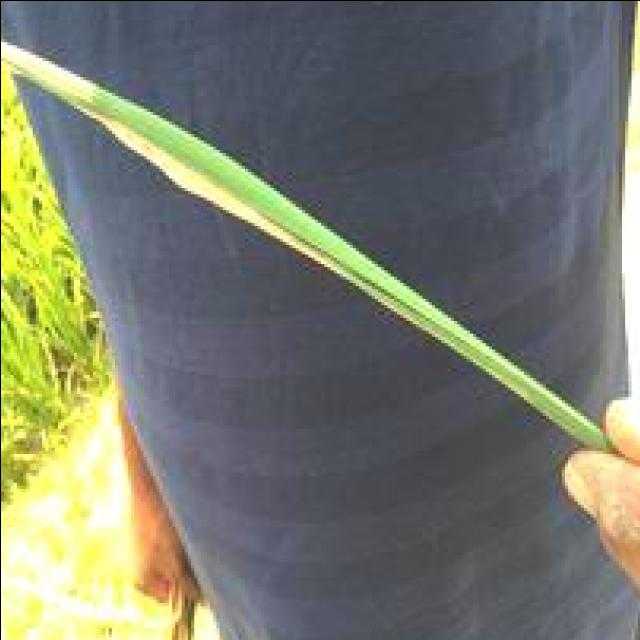Bacterial_Leaf_Blight: (64, 104, 292, 226)
